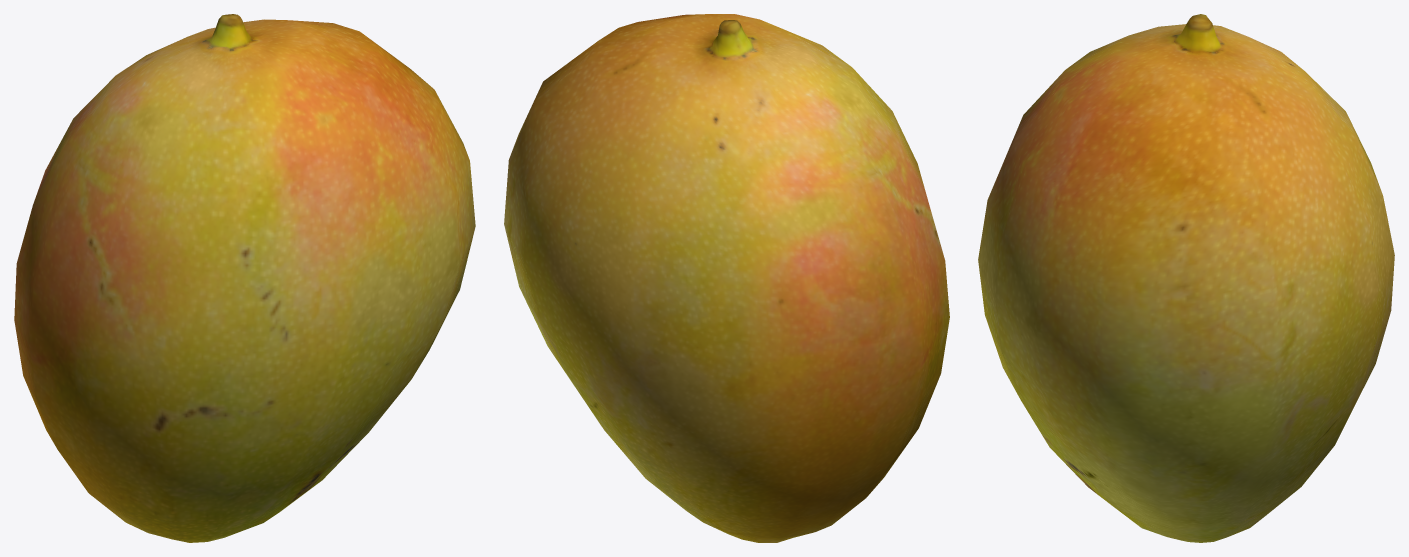
File: G_Sg_F_Mango.FBX
3 views of the same model, side by side, from view 1: azimuth 30°, elevation 25°; view 2: azimuth 150°, elevation 25°; view 3: azimuth 270°, elevation 25° (orthographic). The views are drawn at different scales.
Parts seen in each view (by area): view 1: Mango_LP; view 2: Mango_LP; view 3: Mango_LP.
Part boxes in pixels (box(x1,y1,x2,y2)): Mango_LP: box(14, 14, 475, 542); Mango_LP: box(504, 14, 949, 542); Mango_LP: box(978, 14, 1394, 542).
Bounding box in the file's own units: 12.28 × 14.51 × 10.43.
Materials: 1 (1 with a texture image).
